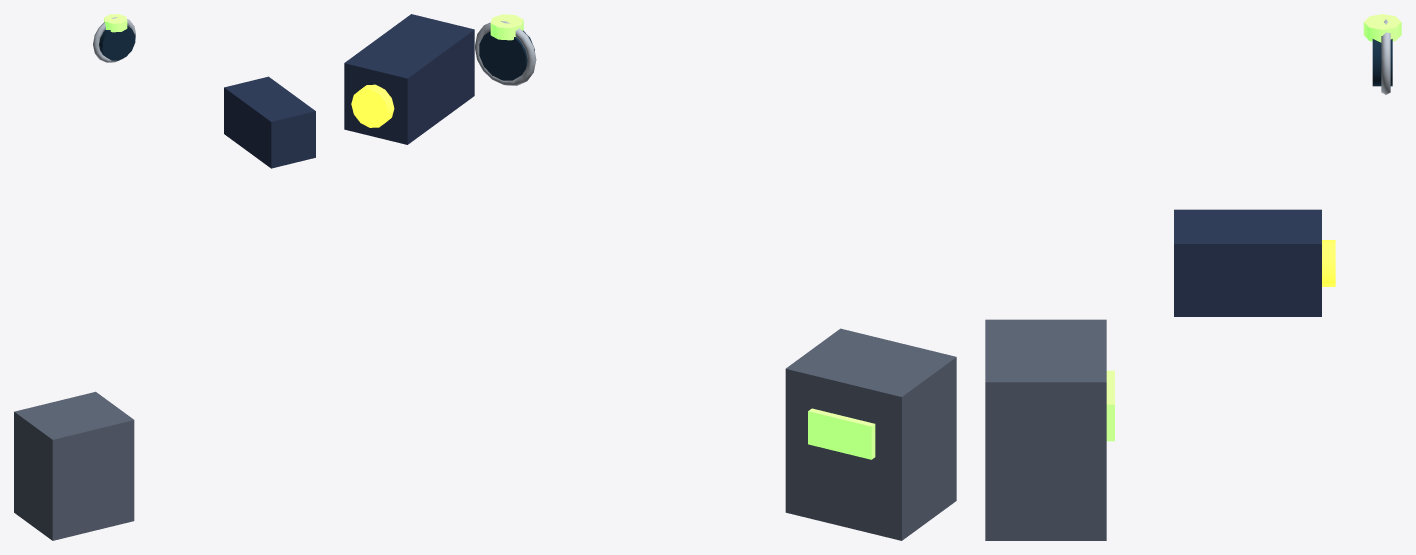
File: tower_detector_analysis_s4.glb
The picture shows the model from 3 angles, left to right: view 1: azimuth 30°, elevation 25°; view 2: azimuth 150°, elevation 25°; view 3: azimuth 270°, elevation 25°; orthographic projection. The views are drawn at different scales.
Parts seen in each view (by area): view 1: detector_recorder, detector_mark_projector, detector_analysis_lens, detector_analysis_lens_ring, detector_up_analysis_l3_stud; view 2: detector_recorder, detector_mark_projector, detector_recorder_face, detector_analysis_lens, detector_mark_lens, detector_analysis_lens_ring, detector_up_analysis_l3_stud; view 3: detector_recorder, detector_mark_projector, detector_up_analysis_l3_stud, detector_mark_lens, detector_recorder_face, detector_analysis_lens_ring, detector_analysis_lens.
Part boxes in pixels (x1,y1,x2,y2): detector_recorder: [14, 391, 134, 540]; detector_mark_projector: [224, 76, 315, 168]; detector_analysis_lens: [99, 26, 135, 60]; detector_analysis_lens_ring: [93, 17, 135, 62]; detector_up_analysis_l3_stud: [104, 14, 127, 32]; detector_recorder: [785, 328, 956, 540]; detector_mark_projector: [344, 14, 474, 144]; detector_recorder_face: [808, 408, 875, 459]; detector_analysis_lens: [479, 30, 534, 80]; detector_mark_lens: [351, 84, 394, 127]; detector_analysis_lens_ring: [475, 21, 536, 85]; detector_up_analysis_l3_stud: [490, 14, 523, 40]; detector_recorder: [985, 319, 1106, 540]; detector_mark_projector: [1174, 209, 1321, 316]; detector_up_analysis_l3_stud: [1363, 14, 1401, 42]; detector_mark_lens: [1322, 240, 1335, 286]; detector_recorder_face: [1106, 370, 1114, 441]; detector_analysis_lens_ring: [1381, 19, 1390, 94]; detector_analysis_lens: [1372, 39, 1392, 86].
Size of the model in its own units: 0.87 by 0.988 by 0.618.
